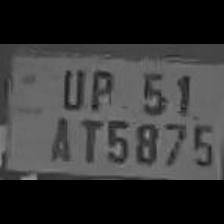1: (170, 68, 194, 116)
5: (135, 66, 169, 114), (100, 116, 130, 164), (188, 118, 216, 168)
7: (158, 118, 186, 168)
8: (130, 118, 158, 166)
A: (44, 112, 74, 162)
P: (85, 64, 116, 110)
T: (72, 115, 102, 163)
U: (54, 63, 86, 111)
